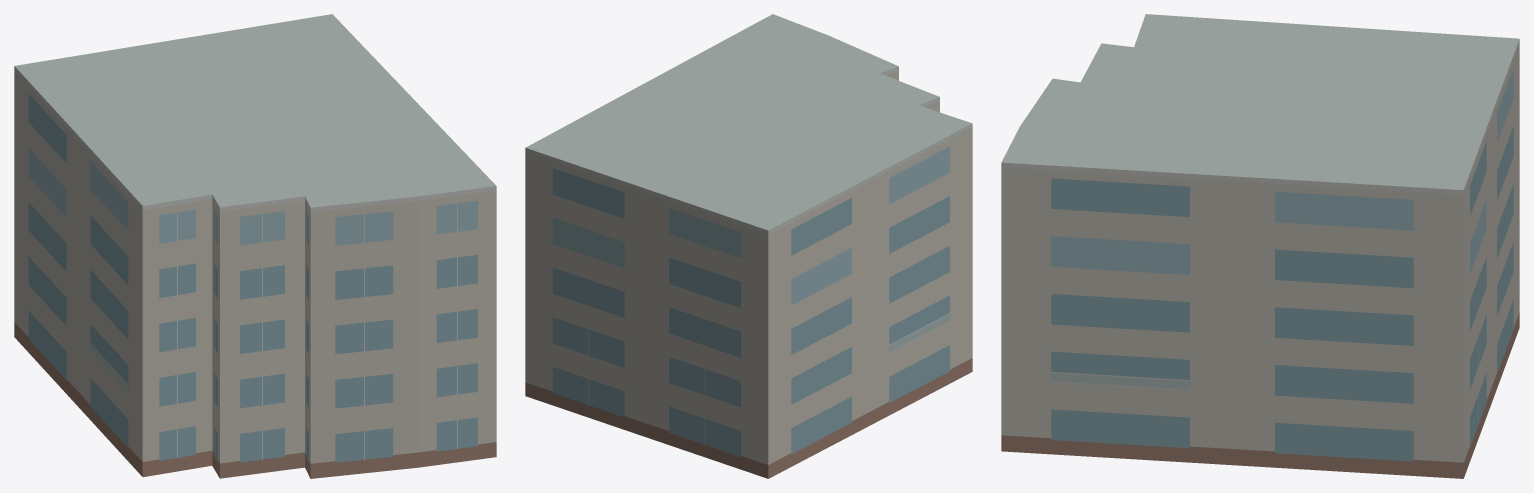
The model's file is survey-upis-32529701.glb.
The picture shows the model from 3 angles, left to right: view 1: azimuth 30°, elevation 25°; view 2: azimuth 150°, elevation 25°; view 3: azimuth 270°, elevation 25°; orthographic projection. The views are drawn at different scales.
Visible parts, largest first — view 1: survey-upis-32529701.tmp; view 2: survey-upis-32529701.tmp; view 3: survey-upis-32529701.tmp.
Boxes of the visible parts, <box> form: survey-upis-32529701.tmp: <box>14,14,496,478</box>; survey-upis-32529701.tmp: <box>525,14,972,478</box>; survey-upis-32529701.tmp: <box>1001,14,1519,478</box>.
Size of the model in its own units: 19.24 by 14.7 by 23.93.
